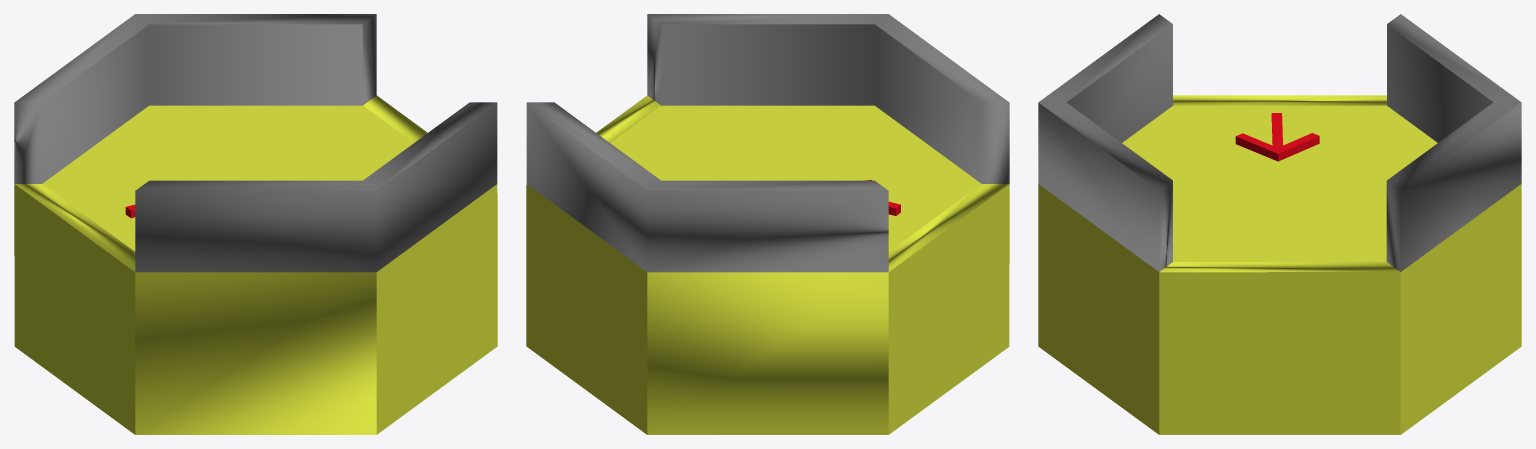
The model's file is Pathway1-2_2.fbx.
3 views of the same model, side by side, from view 1: azimuth 30°, elevation 25°; view 2: azimuth 150°, elevation 25°; view 3: azimuth 270°, elevation 25° (orthographic).
Parts seen in each view (by area): view 1: Pathway1-2_2; view 2: Pathway1-2_2; view 3: Pathway1-2_2.
Boxes of the visible parts, left/top/right/bottom form: Pathway1-2_2: left=14, top=14, right=497, bottom=434; Pathway1-2_2: left=526, top=14, right=1009, bottom=434; Pathway1-2_2: left=1038, top=14, right=1521, bottom=434.
Size of the model in its own units: 173 by 112 by 200.
